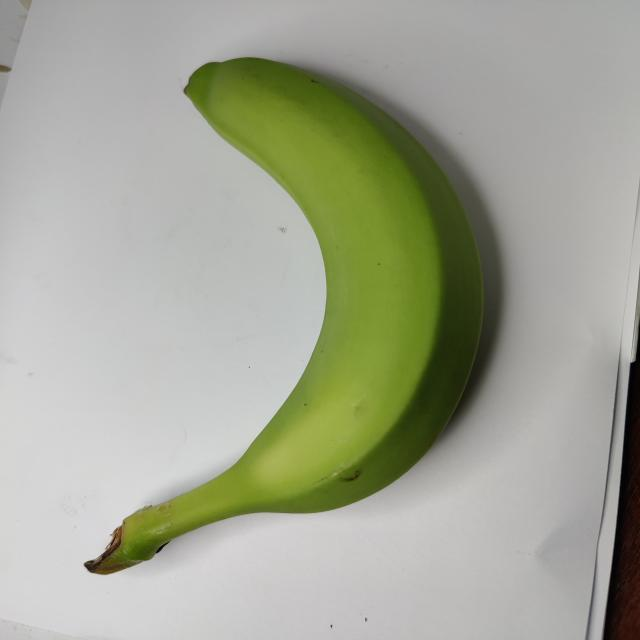raw: (79, 34, 526, 589)
